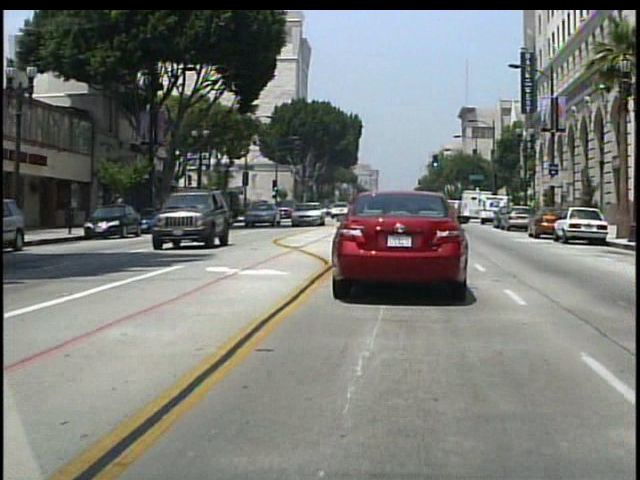person: (117, 193, 131, 226)
